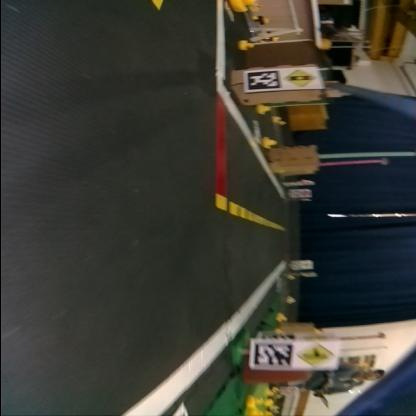Duckie: (229, 0, 255, 11), (255, 104, 271, 115), (237, 40, 254, 50), (262, 136, 276, 148)
Intersection sign: (299, 343, 335, 368)
QR code: (252, 342, 292, 366), (247, 69, 279, 89)
Signal sign: (284, 68, 317, 88)
